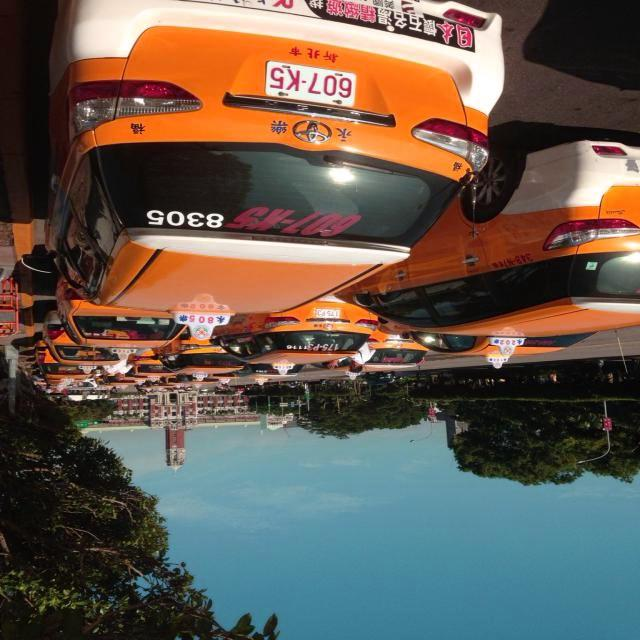taxi: (9, 8, 514, 329), (375, 158, 635, 358), (217, 302, 369, 378), (52, 300, 169, 355)
